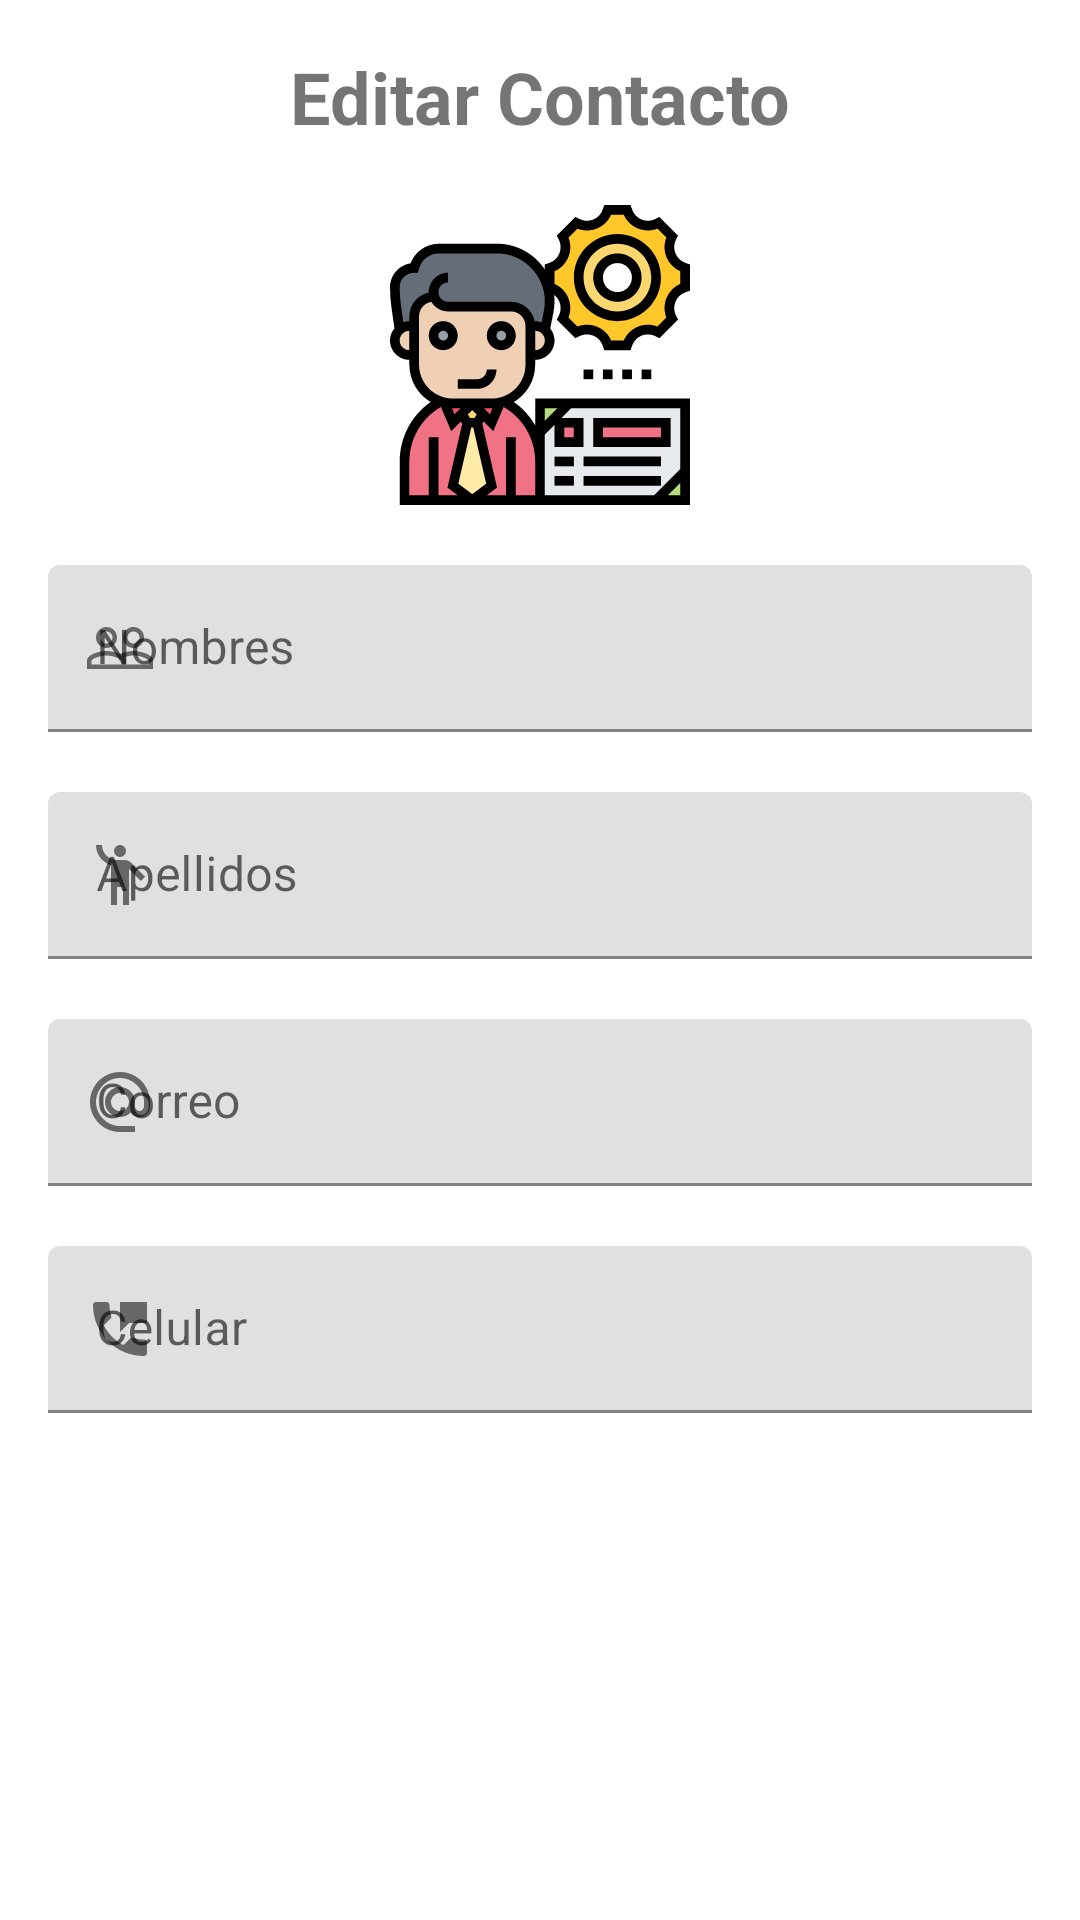

Where icons sit on this 1080 × 1920 app screen, as [x1=x1, y1=y1, x2=x2, y2=y2]:
business: [x1=390, y1=205, x2=690, y2=505]
